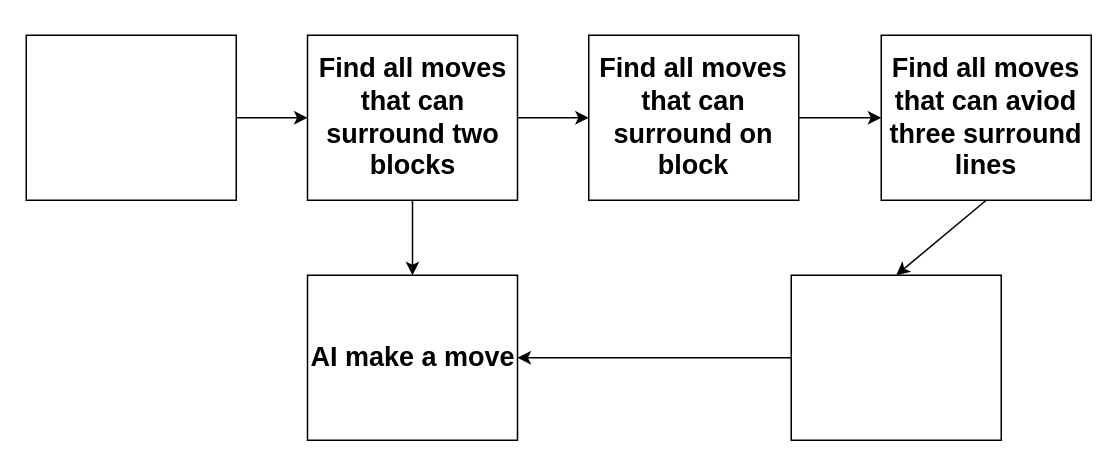
This 1118x467 diagram has some shape labels left out. The shapes that lost their labels are listed below. From the top down, each one's box as (x1, y1, x2, y2) in pixels, then its label:
(25, 34, 236, 200): generate legal moves
(790, 274, 1001, 440): Flat MC
